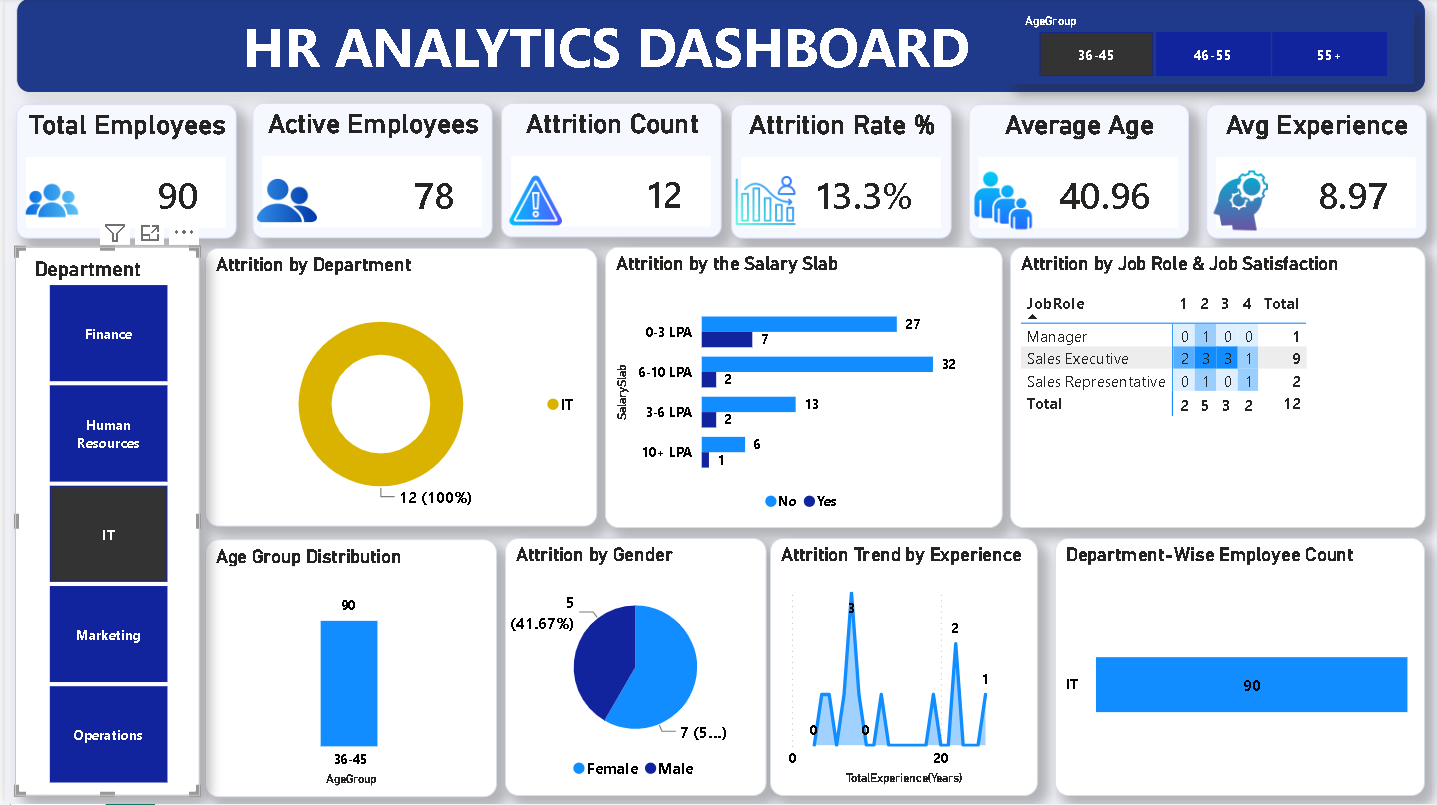

The dashboard page shown, as its layout file describes it:
{"tool":"powerbi","page":{"name":"Page 1","canvas":[1280,720],"ordinal":0},"visuals":[{"type":"textbox","box":[10,0,1259,85],"z":0},{"type":"cardVisual","title":"Total Employees","fields":{"Data":["CountNonNull(HR_Analytics-4.EmpID)"]},"box":[10.5,95.3,196.5,119.8],"z":1000},{"type":"cardVisual","title":"Active Employees","fields":{"Data":["CountNonNull(HR_Analytics-4.EmployeeCount)"]},"box":[220.9,93.3,214.1,120.8],"z":2000},{"type":"cardVisual","title":"Attrition Count","fields":{"Data":["Sum(HR_Analytics-4.AttritionCount)"]},"box":[443.2,93.3,196.5,119.8],"z":3000},{"type":"cardVisual","title":"Attrition Rate %","fields":{"Data":["HR_Analytics-4.Attrition Rate %"]},"box":[648.8,95.3,196.5,119.8],"z":4000},{"type":"cardVisual","title":"Average Age","fields":{"Data":["Avg(HR_Analytics-4.Age)"]},"box":[860.5,95.3,196.5,119.8],"z":5000},{"type":"cardVisual","title":"Avg Experience","fields":{"Data":["Avg(HR_Analytics-4.YearsatCompany)"]},"box":[1073.3,95.3,196.5,119.8],"z":6000},{"type":"image","box":[220.9,153.7,61.7,53.5],"z":7000},{"type":"image","box":[649.1,153.7,61.7,53.5],"z":8000},{"type":"image","box":[860.4,153.7,61.7,53.5],"z":9000},{"type":"image","box":[11,153.7,61.7,53.5],"z":10000},{"type":"image","box":[443.2,153.7,61.7,53.5],"z":11000},{"type":"image","box":[1073.1,153.7,61.7,53.5],"z":12000},{"type":"donutChart","title":"Attrition by Department","fields":{"Category":["HR_Analytics-4.Department"],"Y":["Sum(HR_Analytics-4.AttritionCount)"]},"box":[179,223,350,249],"z":13000},{"type":"clusteredBarChart","title":"Attrition by the Salary Slab","fields":{"Category":["HR_Analytics-4.SalarySlab"],"Y":["CountNonNull(HR_Analytics-4.EmpID)"],"Series":["HR_Analytics-4.Attrition"]},"box":[536.5,222.3,355,251],"z":14000},{"type":"pivotTable","title":"Attrition by Job Role & Job Satisfaction","fields":{"Rows":["HR_Analytics-4.JobRole"],"Values":["Sum(HR_Analytics-4.AttritionCount)"],"Columns":["HR_Analytics-4.JobSatisfaction"]},"box":[898,222,371,251],"z":15000},{"type":"columnChart","title":"Age Group Distribution","fields":{"Category":["HR_Analytics-4.AgeGroup"],"Y":["Sum(HR_Analytics-4.EmployeeCount)"]},"box":[178.4,483,261,230],"z":16000},{"type":"pieChart","title":"Attrition by Gender","fields":{"Category":["HR_Analytics-4.Gender"],"Y":["Sum(HR_Analytics-4.AttritionCount)"]},"box":[446.5,482.6,233.7,230.2],"z":17000},{"type":"areaChart","title":"Attrition Trend by Experience","fields":{"Category":["HR_Analytics-4.TotalExperience(Years)"],"Y":["Sum(HR_Analytics-4.AttritionCount)"]},"box":[683.7,482.6,239.5,230.2],"z":18000},{"type":"funnel","title":"Department-Wise Employee Count","fields":{"Y":["CountNonNull(HR_Analytics-4.EmpID)"],"Category":["HR_Analytics-4.Department"]},"box":[938.4,482.6,330.2,230.2],"z":19000},{"type":"slicer","fields":{"Values":["HR_Analytics-4.Department"]},"box":[9.3,222.1,165.1,490.7],"z":20000},{"type":"slicer","fields":{"Values":["HR_Analytics-4.AgeGroup"]},"box":[897.7,9.3,361,68],"z":21000}]}

Visuals, with their boxes in screenshot pixels (x1, y1, x2, y2), scaled from the page's 1280x720 canvas onto the 1437x805 screenshot:
textbox: <region>11, 0, 1425, 95</region>
"Total Employees" cardVisual: <region>12, 107, 232, 240</region>
"Active Employees" cardVisual: <region>248, 104, 488, 239</region>
"Attrition Count" cardVisual: <region>498, 104, 718, 238</region>
"Attrition Rate %" cardVisual: <region>728, 107, 949, 240</region>
"Average Age" cardVisual: <region>966, 107, 1187, 240</region>
"Avg Experience" cardVisual: <region>1205, 107, 1426, 240</region>
image: <region>248, 172, 317, 232</region>
image: <region>729, 172, 798, 232</region>
image: <region>966, 172, 1035, 232</region>
image: <region>12, 172, 82, 232</region>
image: <region>498, 172, 567, 232</region>
image: <region>1205, 172, 1274, 232</region>
"Attrition by Department" donutChart: <region>201, 249, 594, 528</region>
"Attrition by the Salary Slab" clusteredBarChart: <region>602, 249, 1001, 529</region>
"Attrition by Job Role & Job Satisfaction" pivotTable: <region>1008, 248, 1425, 529</region>
"Age Group Distribution" columnChart: <region>200, 540, 493, 797</region>
"Attrition by Gender" pieChart: <region>501, 540, 764, 797</region>
"Attrition Trend by Experience" areaChart: <region>768, 540, 1036, 797</region>
"Department-Wise Employee Count" funnel: <region>1054, 540, 1424, 797</region>
slicer - HR_Analytics-4.Department: <region>10, 248, 196, 797</region>
slicer - HR_Analytics-4.AgeGroup: <region>1008, 10, 1413, 86</region>
